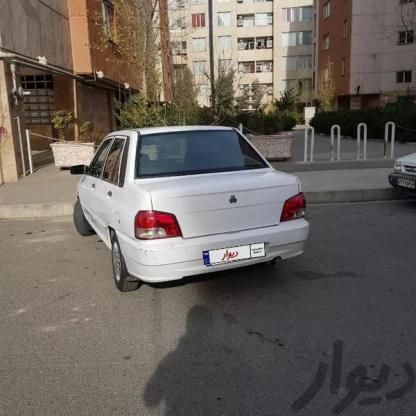Car: (65, 116, 314, 308), (385, 140, 416, 243)
